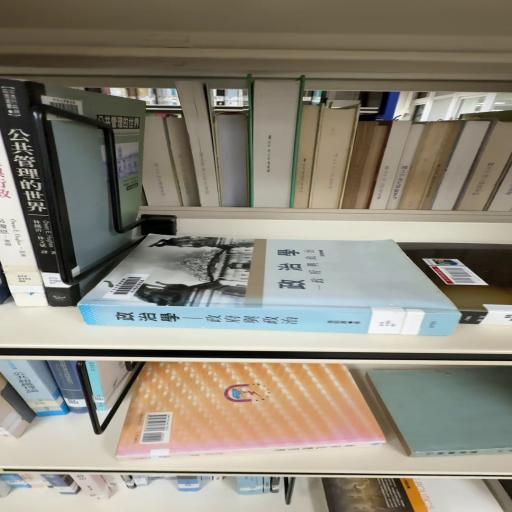flat: (80, 236, 461, 337), (118, 363, 385, 459)
